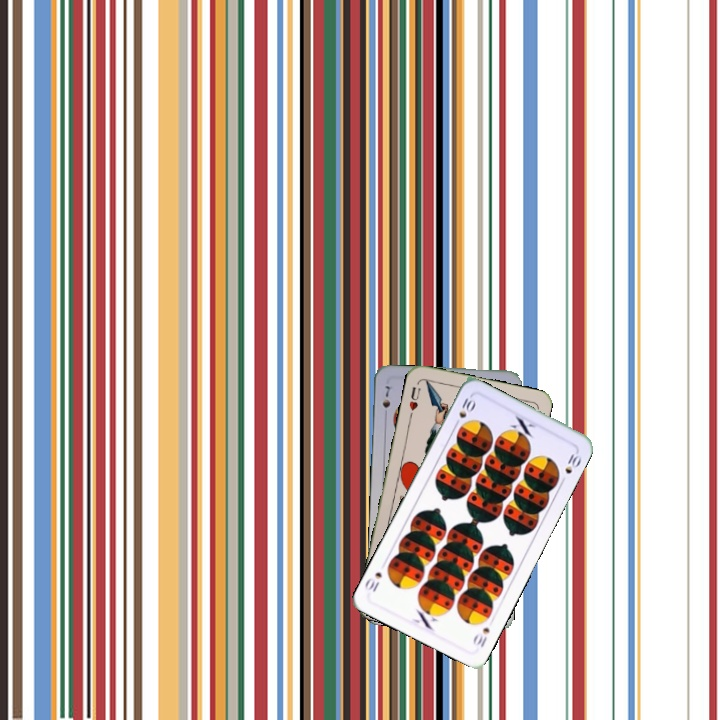HU: (405, 383, 423, 419)
S10: (450, 392, 478, 430), (469, 623, 492, 650)
S7: (378, 381, 393, 420)
